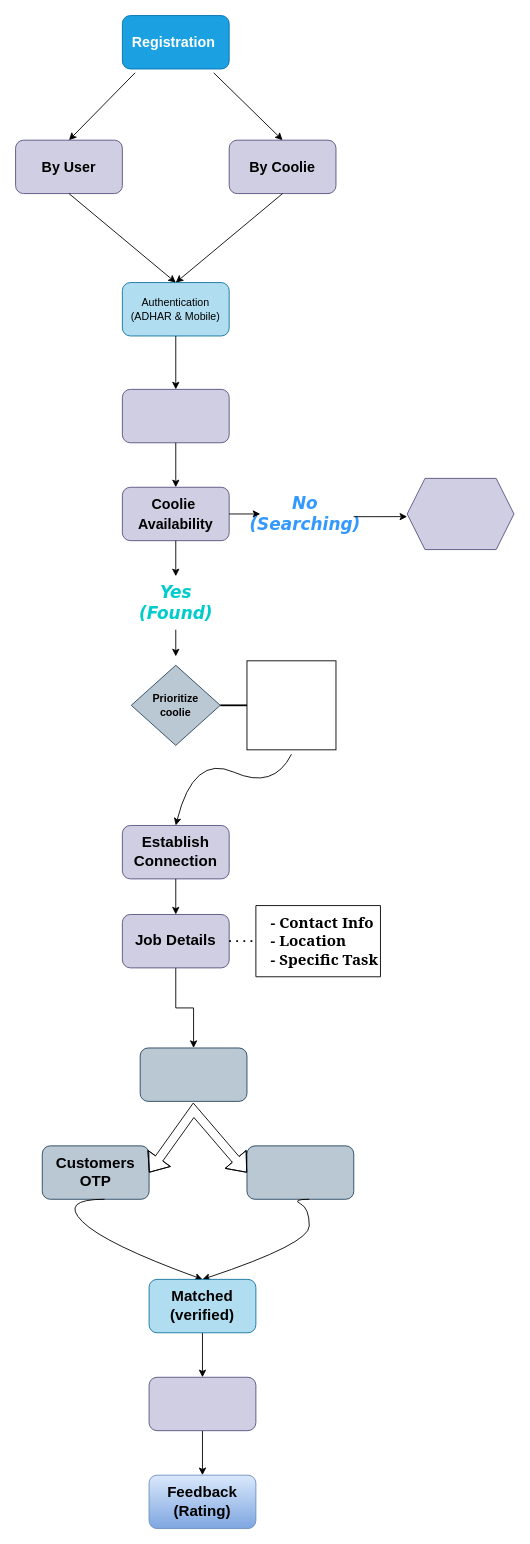
Image size: 530x1544. Some labels were removed from this diagram. Each missing label, with the centre of its shape:
"Based on: 1)Rating 2)Price 3)Distance" belongs at point 291,705.
"Entered OTP" belongs at point 300,1172.
"Estimate Waiting Time" belongs at point 460,513.
"Individual Information" belongs at point 175,415.
"Job Completed?" belongs at point 193,1074.
"Payment" belongs at point 202,1403.
